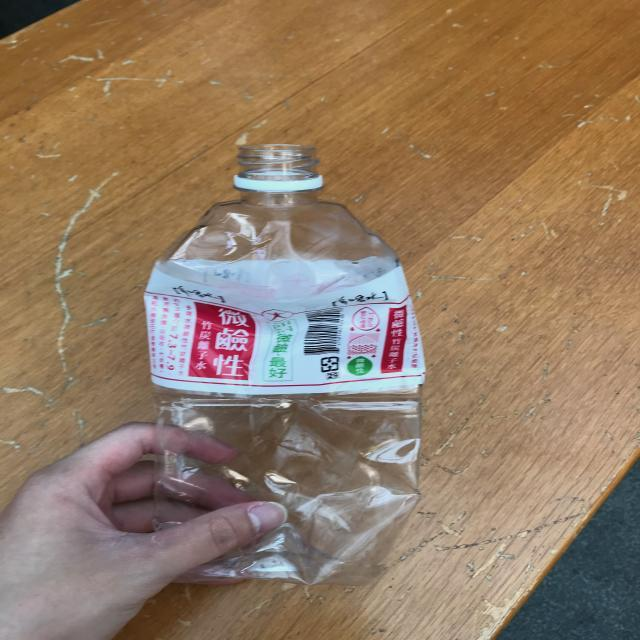plastic_bottle: (143, 144, 459, 586)
